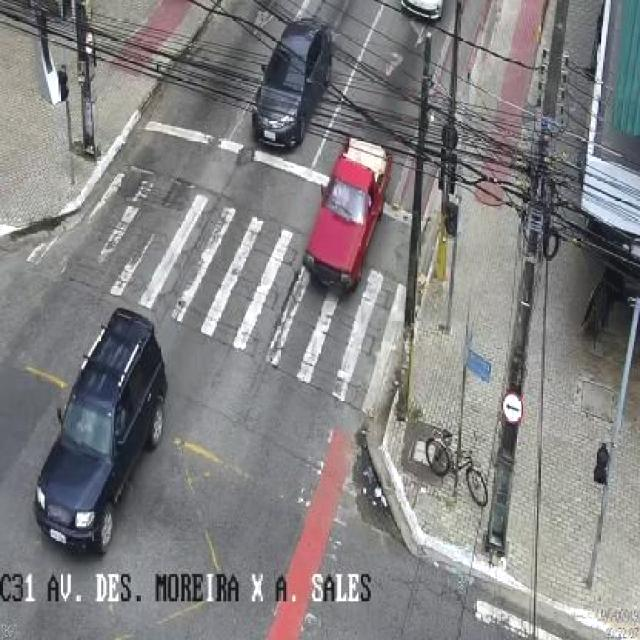Car: (32, 306, 169, 559), (248, 20, 334, 150)
Cycle: (425, 426, 490, 509)
Truck: (304, 134, 396, 294)
